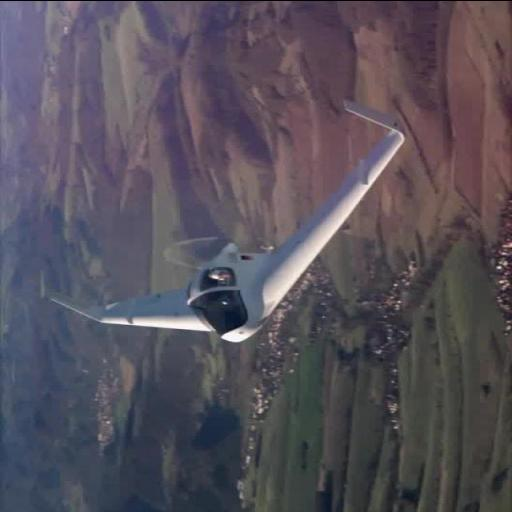uav: (43, 95, 427, 343)
